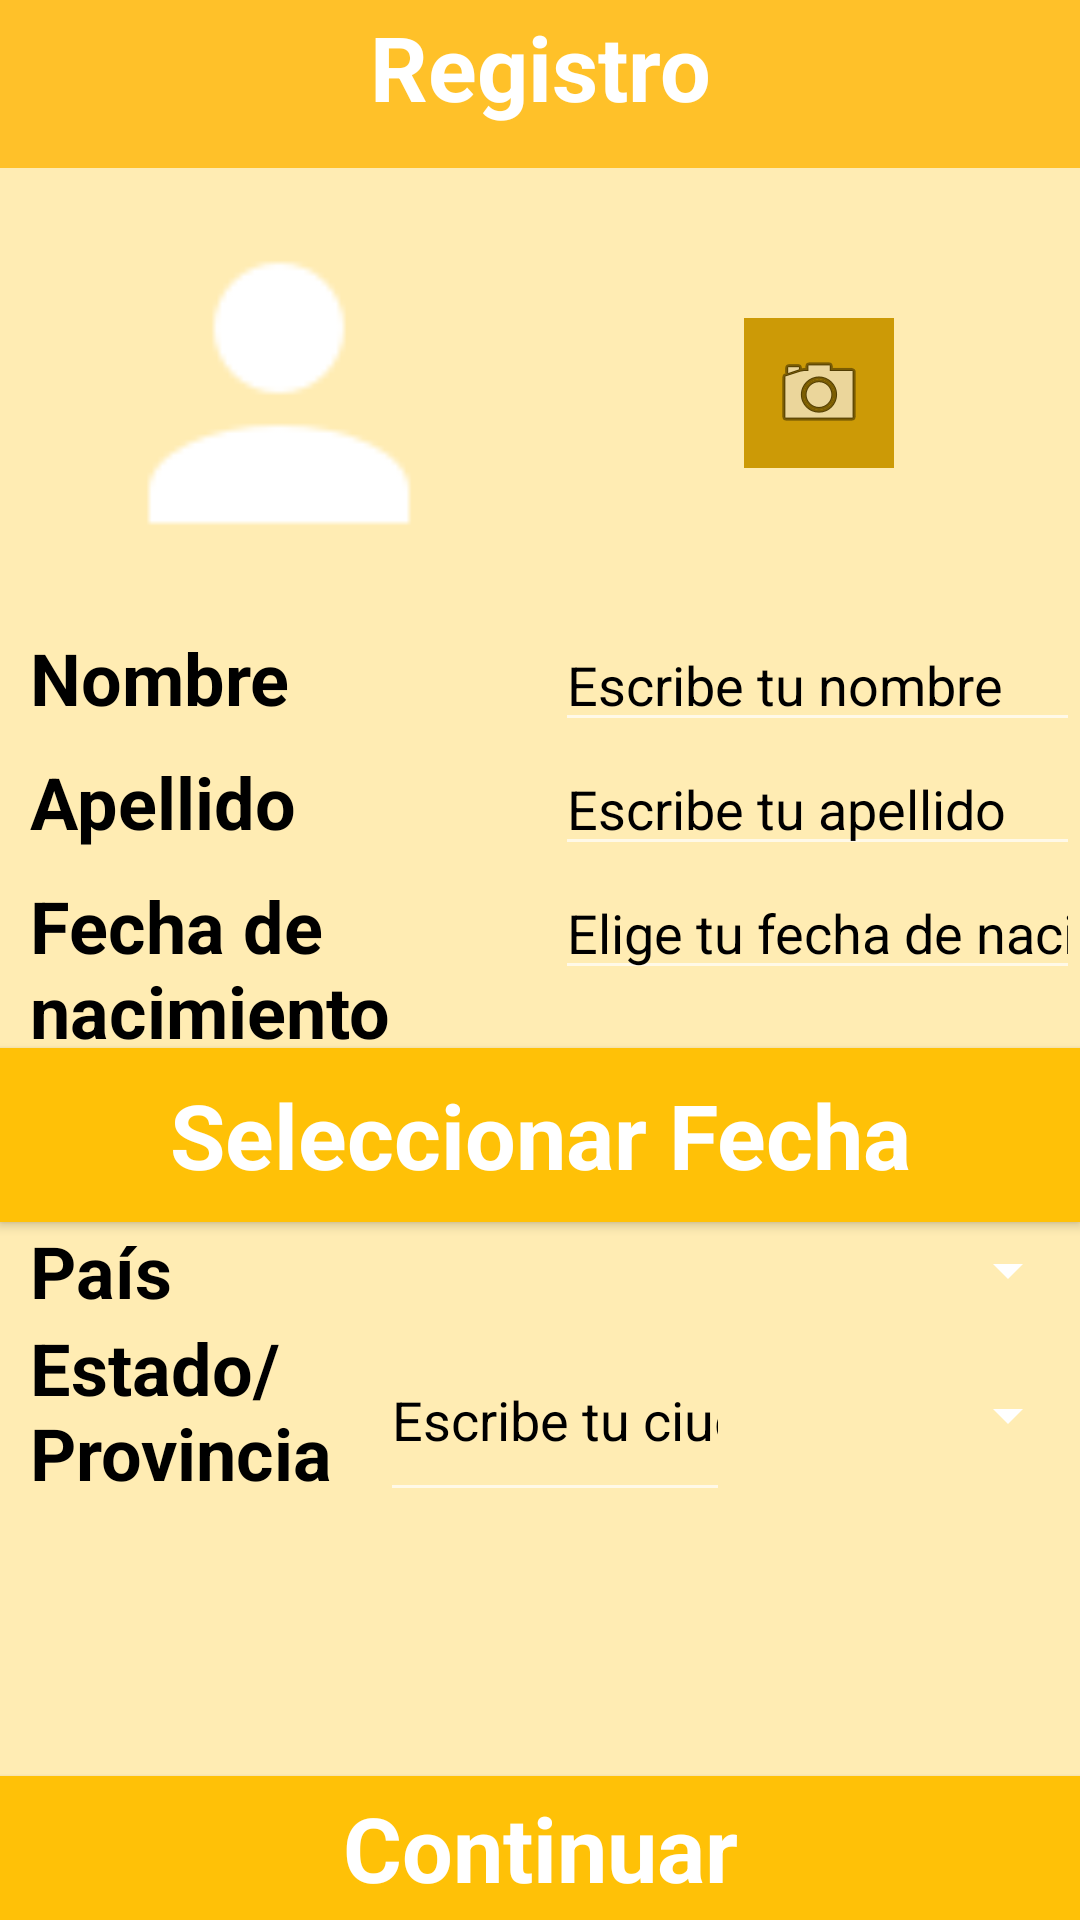

Locate icon controls on the screen. Image size 1080 x 1920, boxes as (x1, y1, x2, y2).
camera: (744, 318, 894, 468)
manuser: (148, 262, 410, 524)
